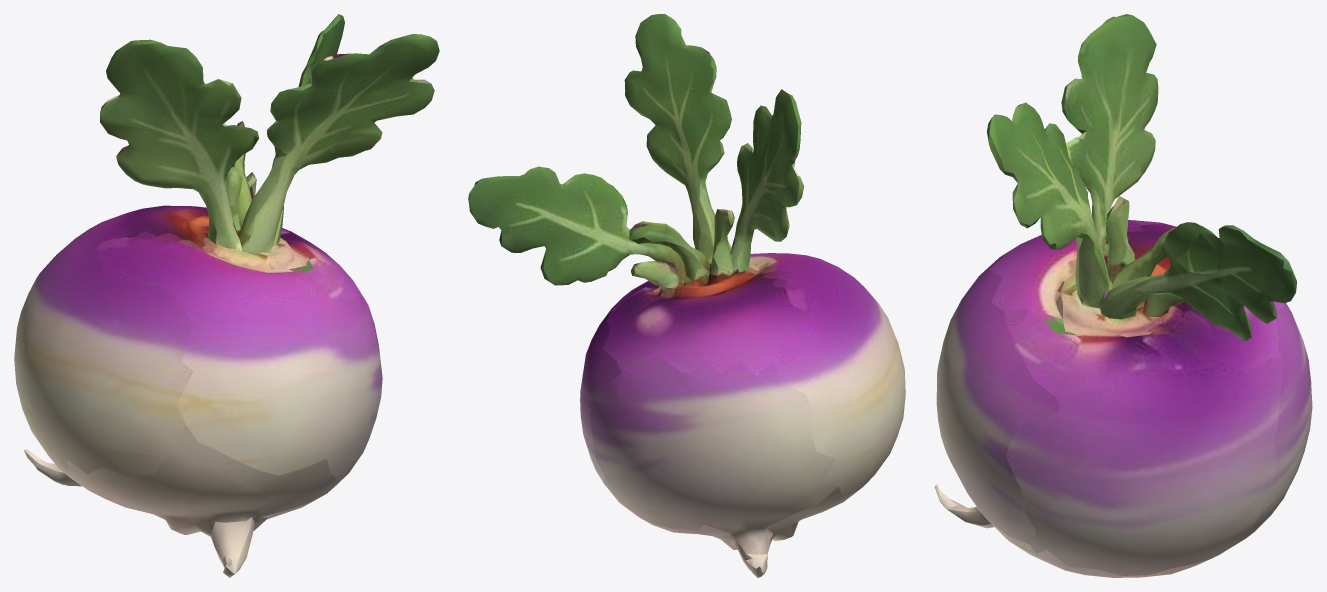
Rendered from turnip.glb.
3 renders of one model, left to right at view 1: azimuth 30°, elevation 25°; view 2: azimuth 150°, elevation 25°; view 3: azimuth 270°, elevation 25°, orthographic. The views are drawn at different scales.
Parts seen in each view (by area): view 1: turnip; view 2: turnip; view 3: turnip.
Boxes of the visible parts, left/top/right/bottom form: turnip: left=14, top=14, right=439, bottom=577; turnip: left=468, top=14, right=905, bottom=577; turnip: left=934, top=14, right=1312, bottom=577.
Bounding box in the file's own units: 0.8312 × 1 × 0.684.
Materials: 1 (1 with a texture image).
